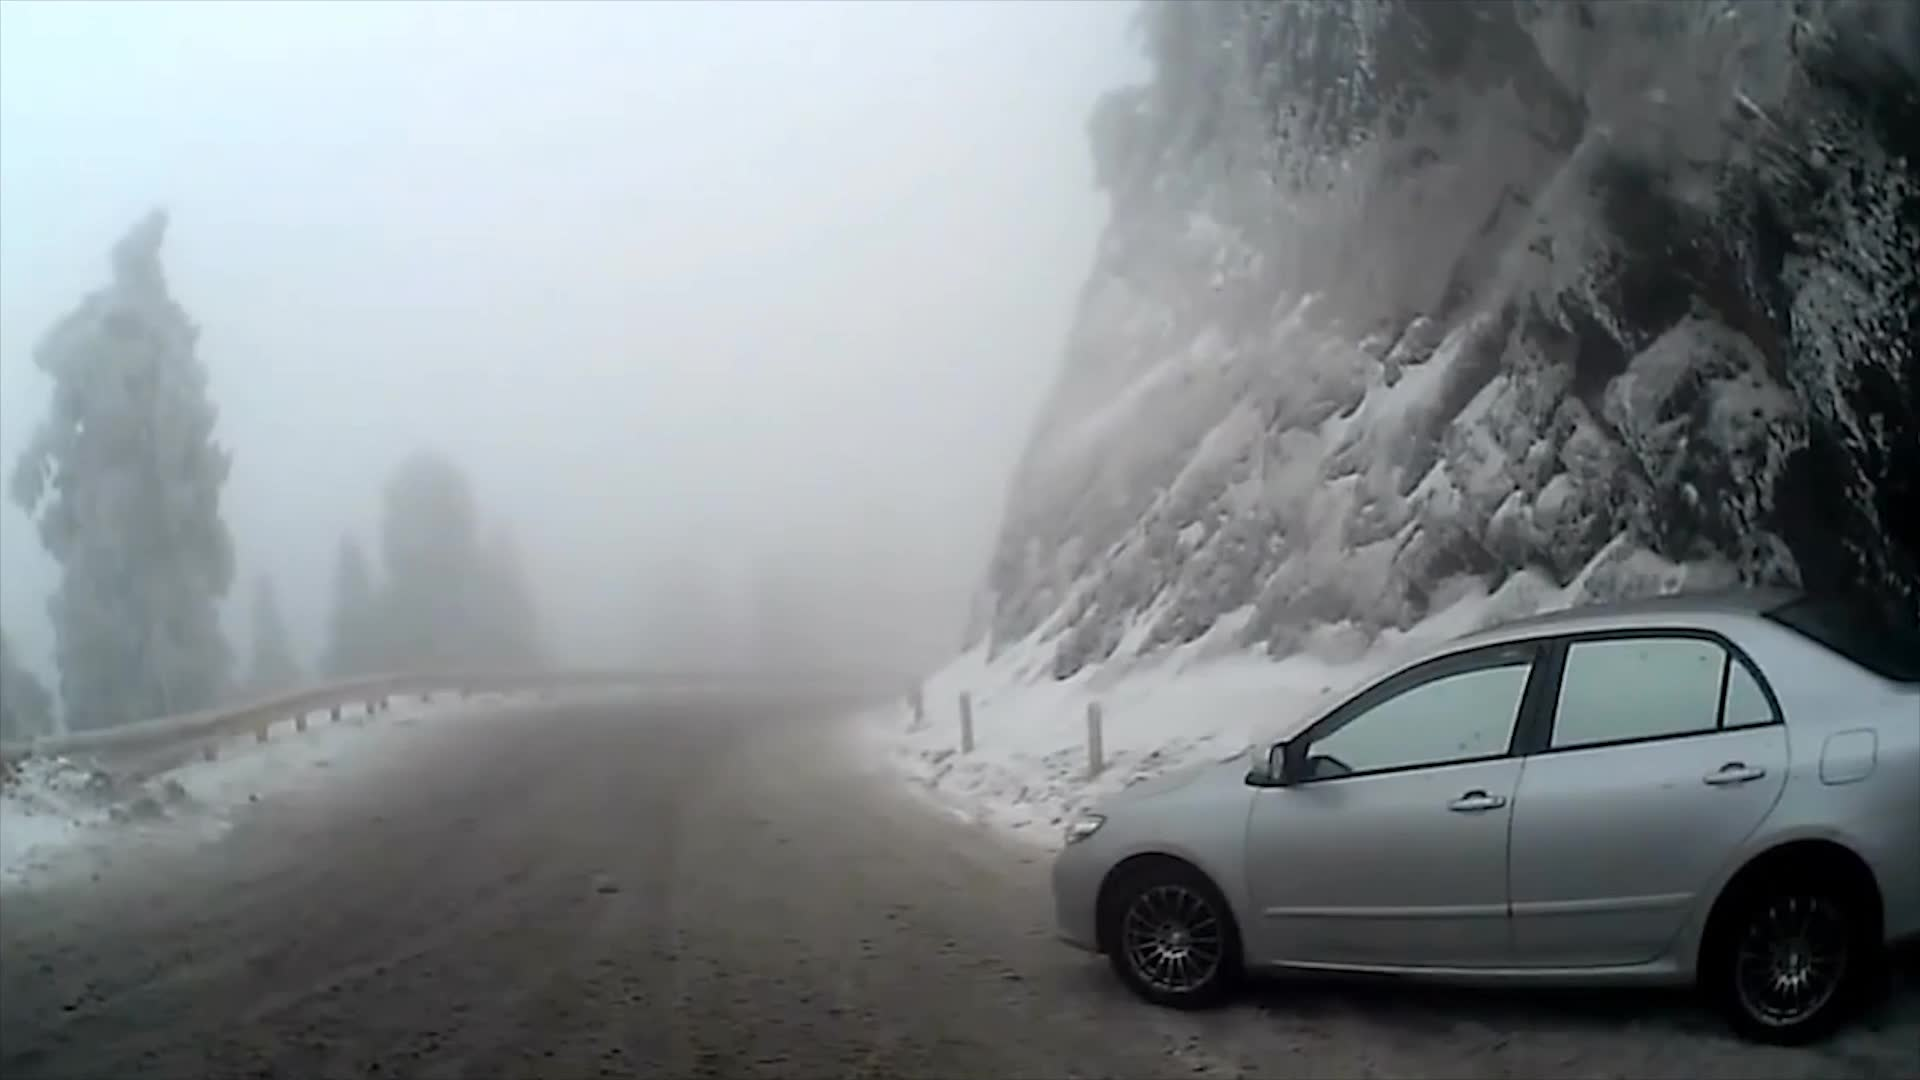vehicle: (1048, 583, 1920, 1048)
